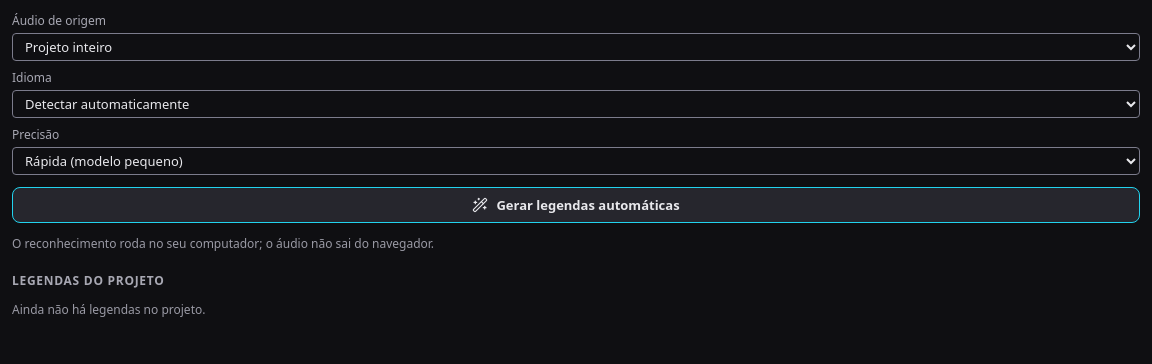
CaptionsTab › gera só o clipe selecionado e soma o início do intervalo aos tempos
Select "Clipe selecionado" in the dropdown labelled "Áudio de origem" at (576, 47), box x1=12 y1=33 x2=1140 y2=61
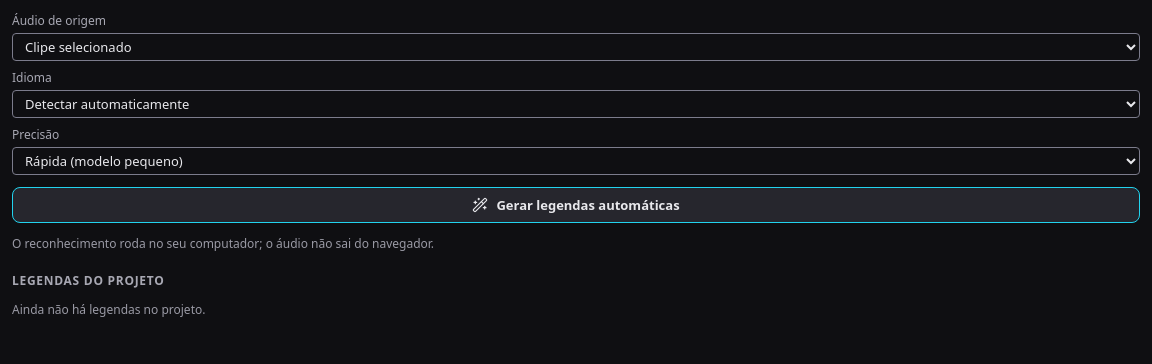
Click the button "Gerar legendas automáticas".
click(576, 205)  # box x1=12 y1=187 x2=1140 y2=223
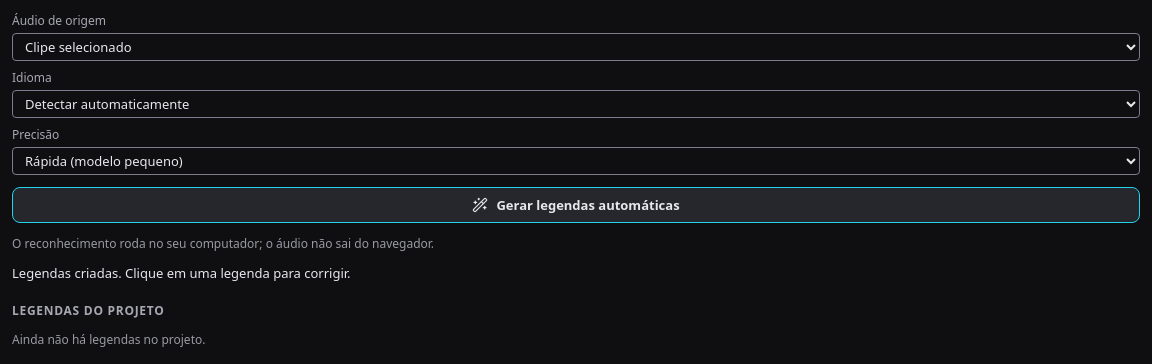
Result: the text "Legendas criadas. Clique em uma legenda para corrigir." is shown at x1=12 y1=264 x2=350 y2=282
